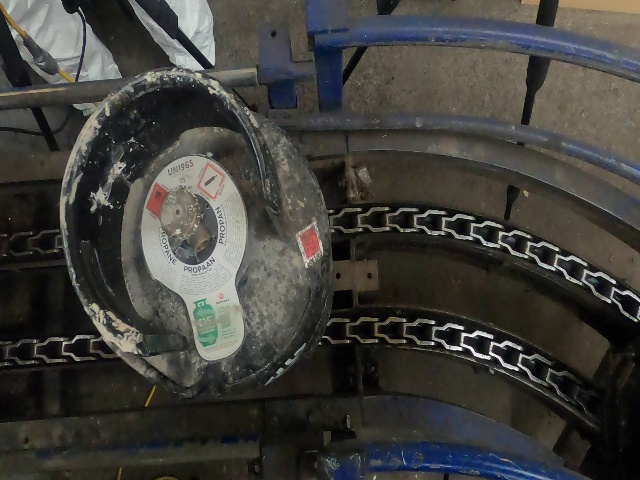gas_bottle: (0, 0, 639, 478)
